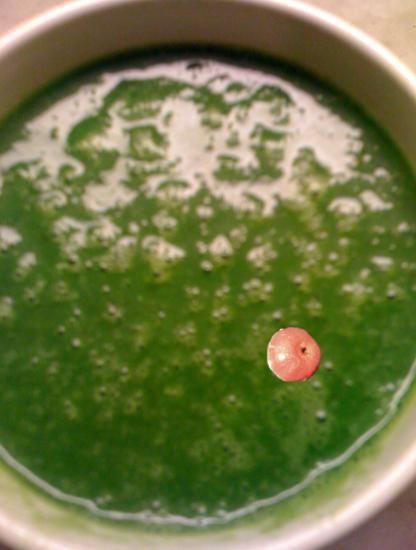Clementine: (264, 326, 324, 386)
